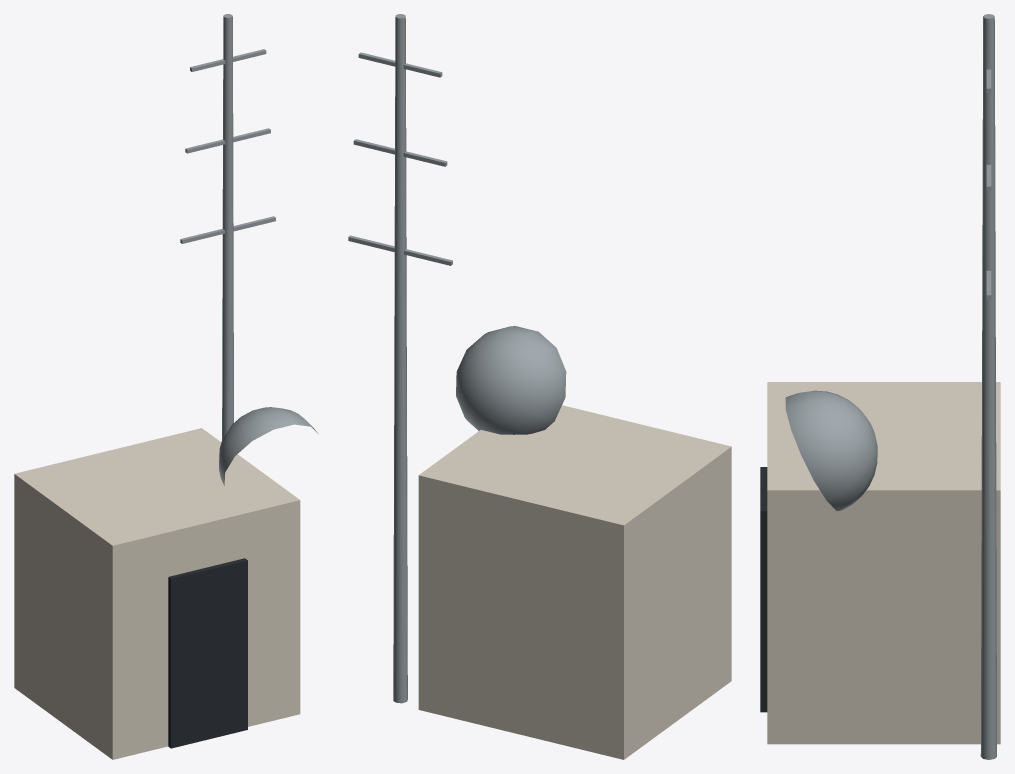
The model's file is roof-clutter-c.glb.
The picture shows the model from 3 angles, left to right: view 1: azimuth 30°, elevation 25°; view 2: azimuth 150°, elevation 25°; view 3: azimuth 270°, elevation 25°; orthographic projection. The views are drawn at different scales.
Visible parts, largest first — view 1: roof paint, roof dark, roof steel; view 2: roof paint, roof steel; view 3: roof paint, roof steel, roof dark.
Boxes of the visible parts, x1,y1,x2,y2 form: roof paint: (14, 428, 300, 759); roof dark: (168, 558, 247, 748); roof steel: (180, 14, 317, 485); roof paint: (418, 405, 731, 759); roof steel: (348, 14, 566, 703); roof paint: (767, 382, 1000, 744); roof steel: (785, 14, 996, 759); roof dark: (760, 467, 767, 712).
Bounding box in the file's own units: 3 × 7 × 2.06.
